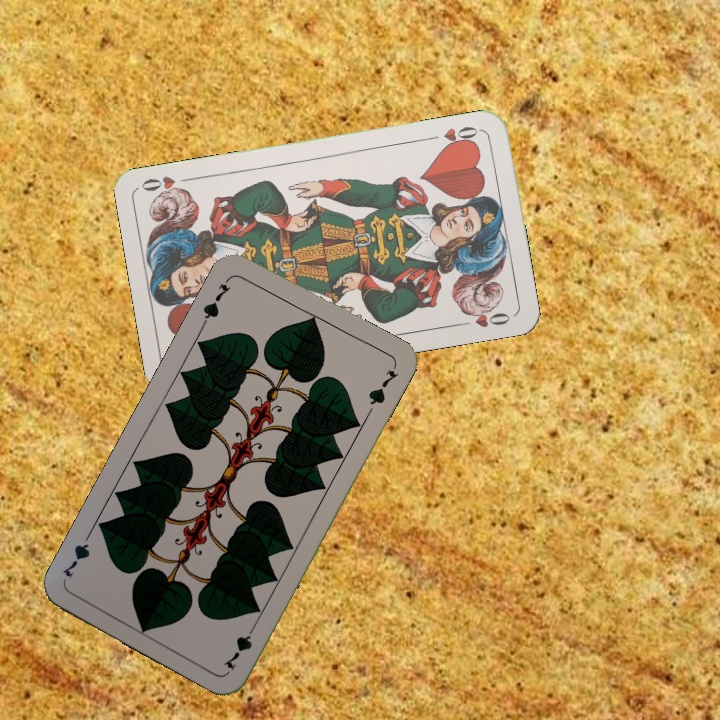G7: (220, 618, 260, 673), (198, 274, 234, 328)
HO: (424, 122, 483, 151)
